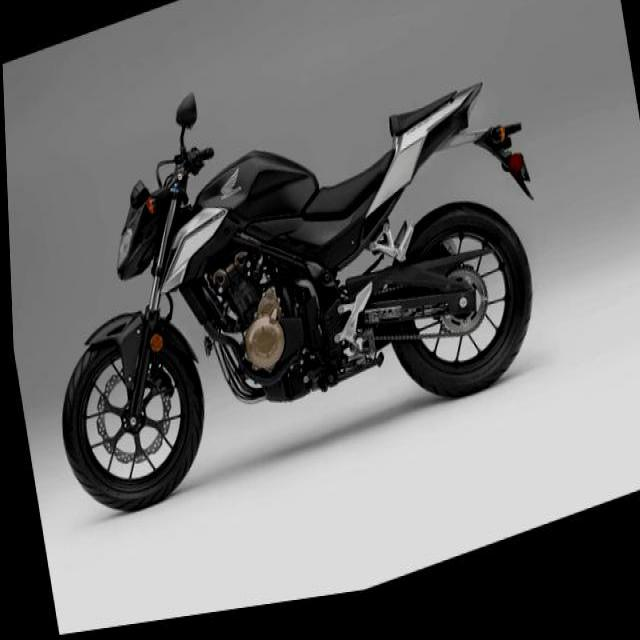CB500F: (22, 55, 562, 541)
